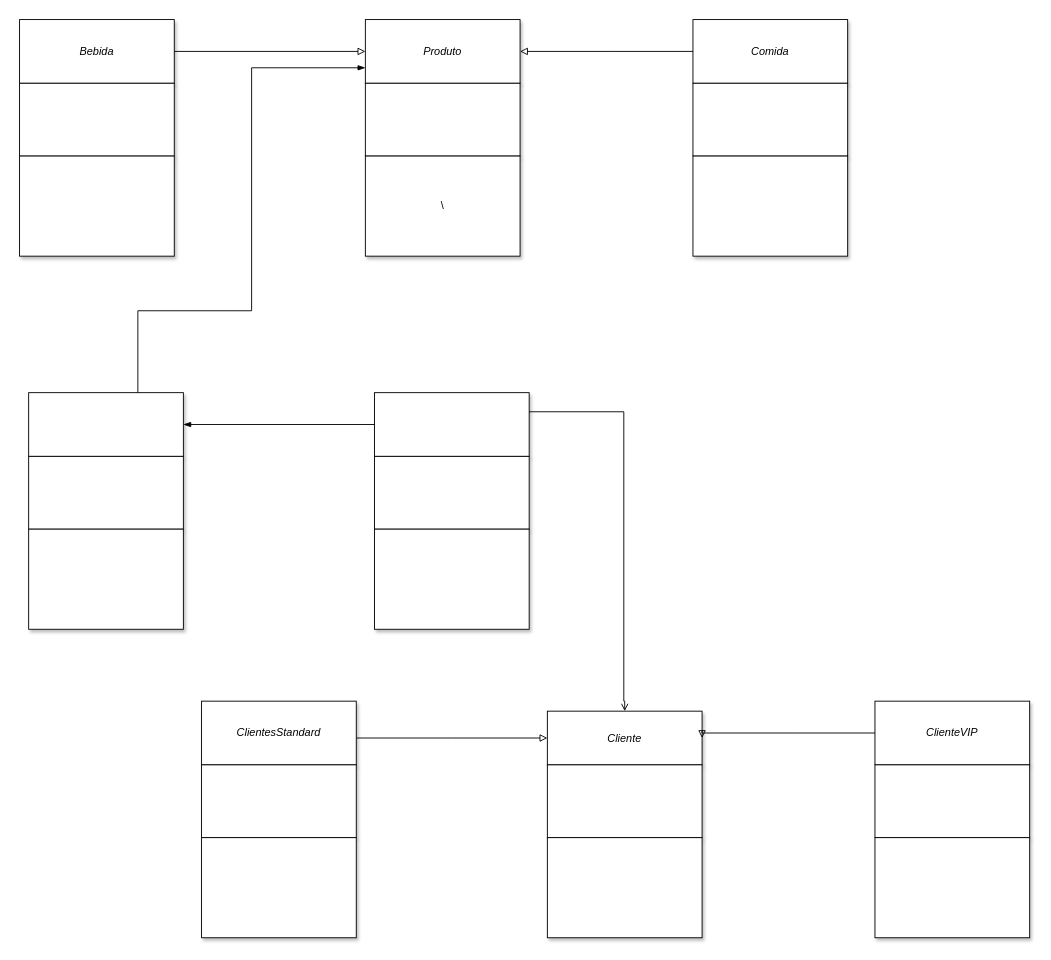
Image size: 1051x960. Some labels were removed from this diagram. The shapes that lost their labels are listed below. From the top down, each one's centre as x and y in pixels, then its label:
At pixel 106 425: "ItemPedido".
At pixel 452 425: "Pedido".
